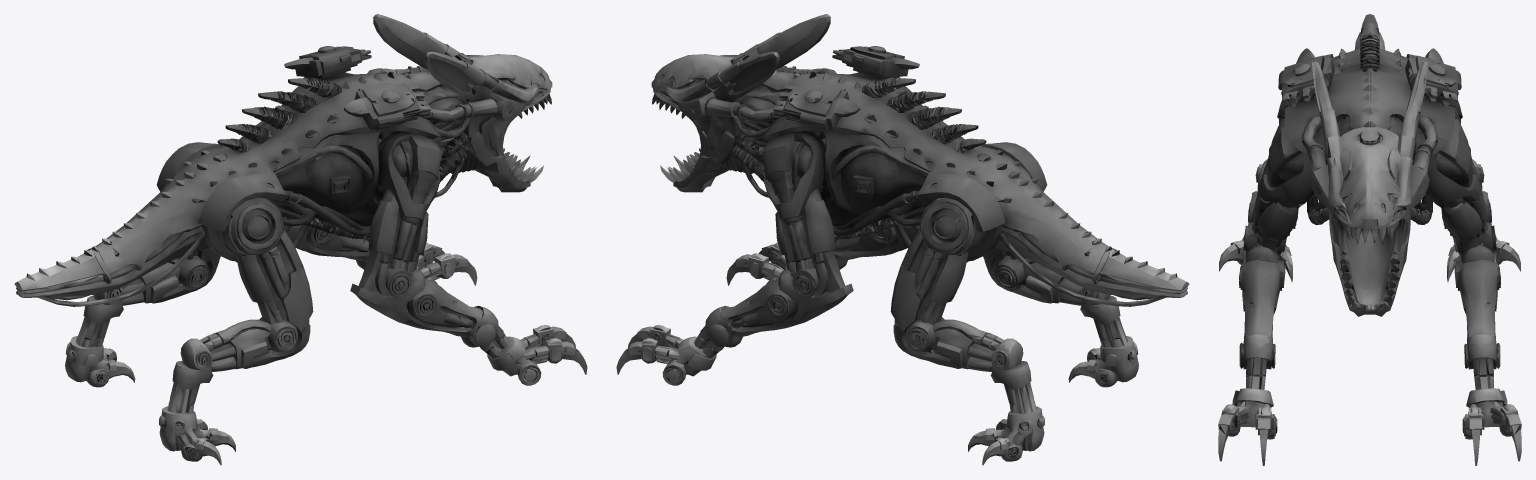
Rendered from metalicoBest.glb.
3 views of the same model, side by side, from view 1: azimuth 30°, elevation 25°; view 2: azimuth 150°, elevation 25°; view 3: azimuth 270°, elevation 25° (orthographic). The views are drawn at different scales.
Parts seen in each view (by area): view 1: tmpy6x21yzv.ply; view 2: tmpy6x21yzv.ply; view 3: tmpy6x21yzv.ply.
Part boxes in pixels (<box>): tmpy6x21yzv.ply: <box>14,14,587,465</box>; tmpy6x21yzv.ply: <box>616,14,1189,465</box>; tmpy6x21yzv.ply: <box>1218,14,1521,465</box>.
Size of the model in its own units: 1.69 by 0.9747 by 0.7818.
Materials: 1 (1 with a texture image).
